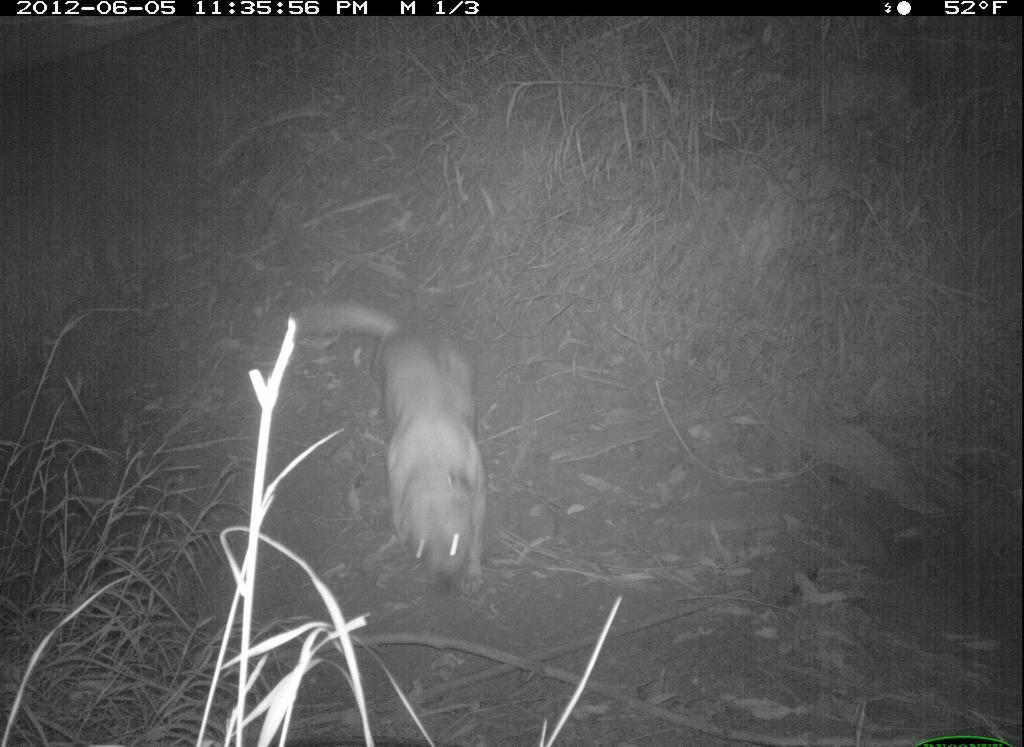dog: (286, 291, 498, 623)
